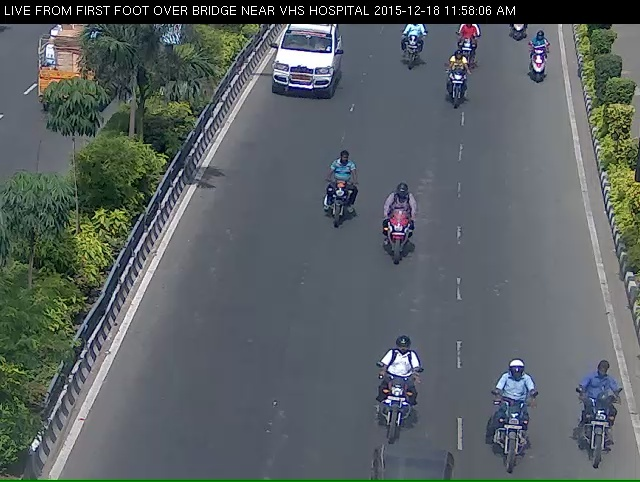Car: (263, 21, 337, 107)
Person: (368, 357, 422, 472), (485, 385, 538, 476), (580, 385, 622, 476), (312, 160, 354, 250), (377, 195, 414, 281), (525, 35, 561, 104), (389, 23, 422, 81), (438, 67, 468, 120), (448, 24, 478, 74)
